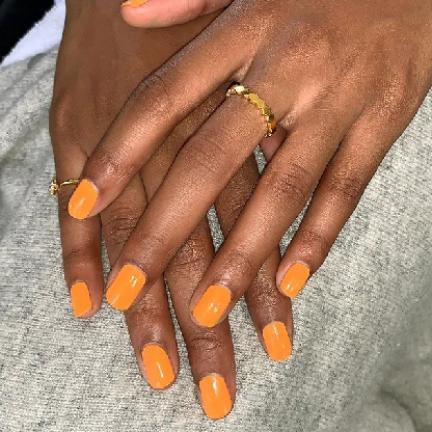Nail: (105, 264, 145, 310), (192, 285, 231, 327), (142, 345, 175, 390), (200, 374, 232, 419), (68, 178, 99, 219), (262, 321, 291, 361), (280, 262, 310, 299), (70, 282, 92, 317)
